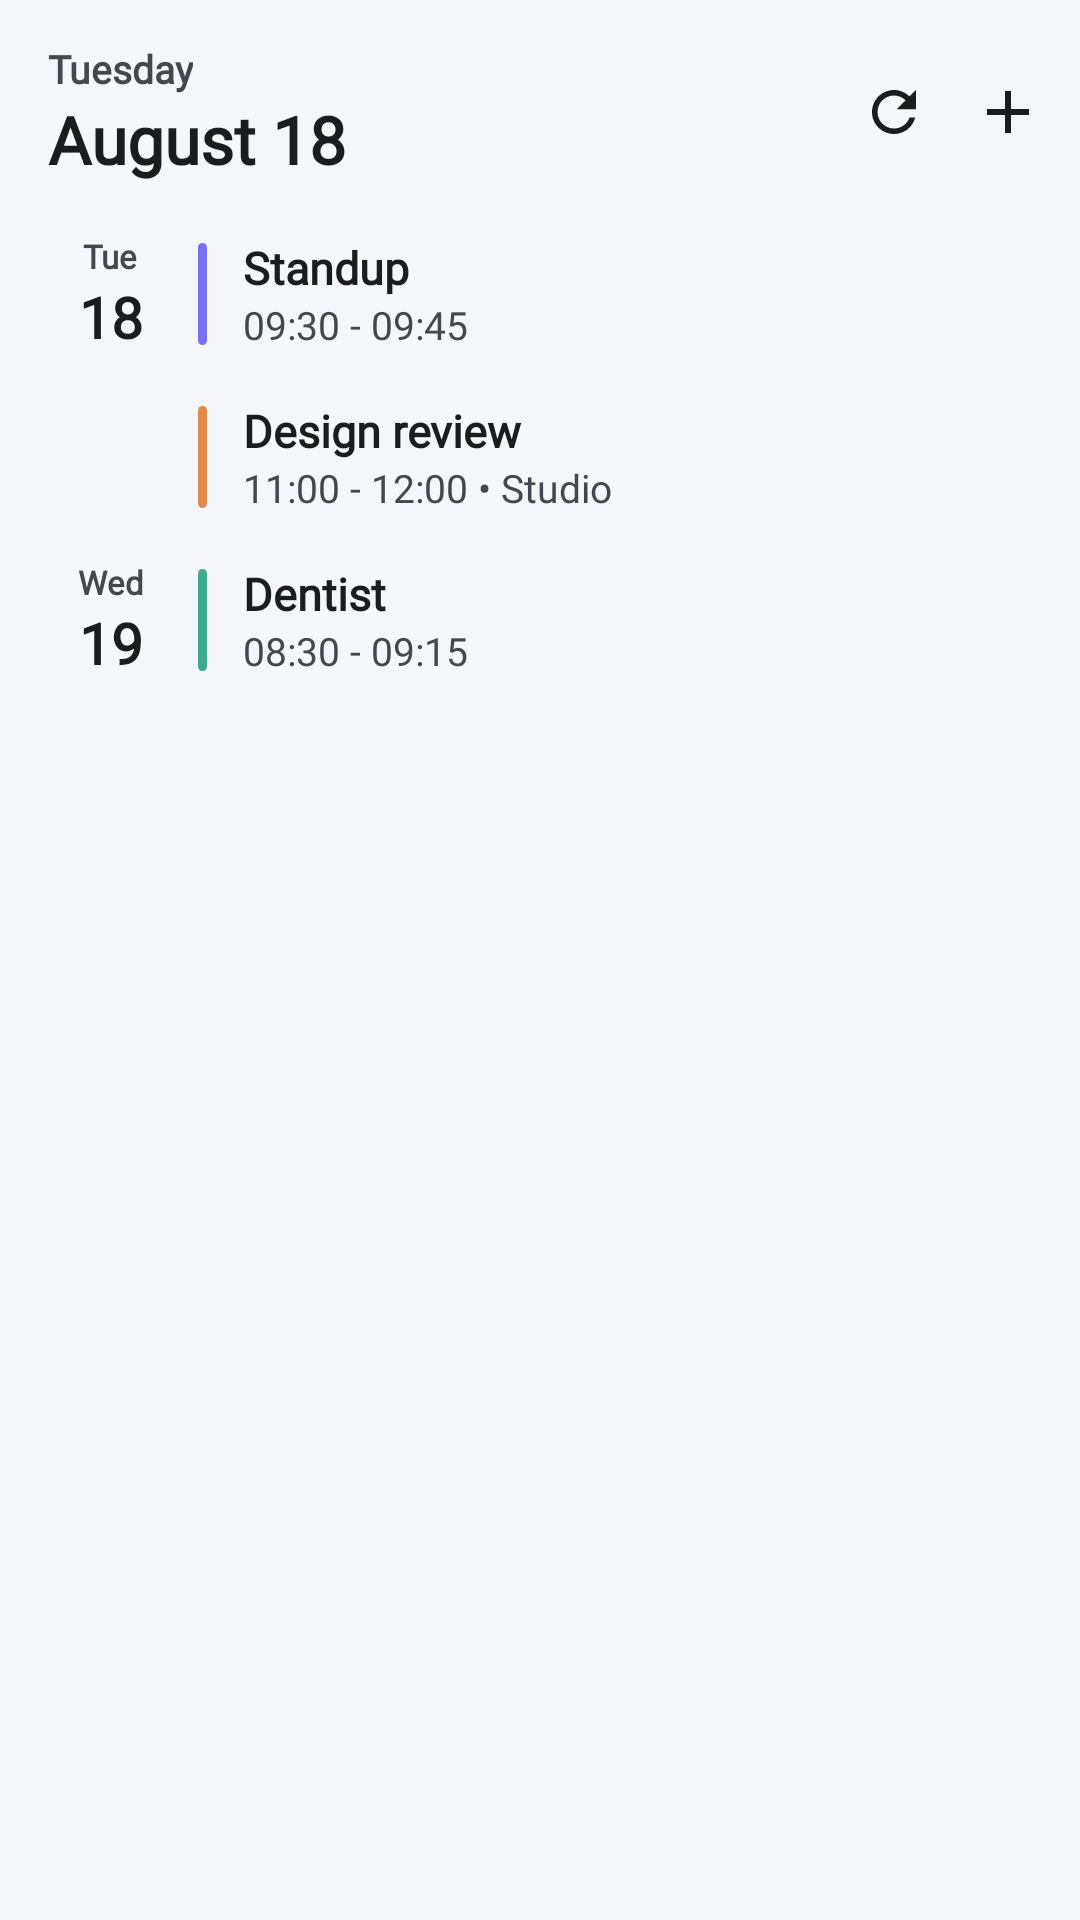

Icons on this 1080 × 1920 Android screen, each with the point to tap as point (x, y):
widget add: point (1008, 112)
widget refresh: point (894, 112)
